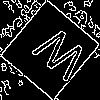W: (25, 24, 91, 89)
